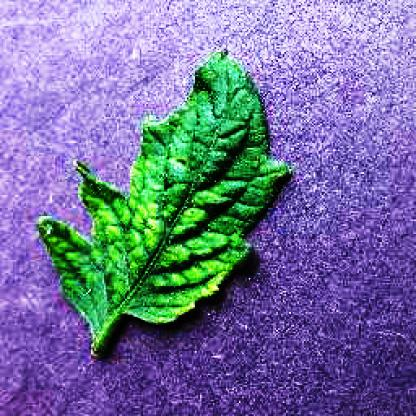Virus: (31, 49, 297, 359)
